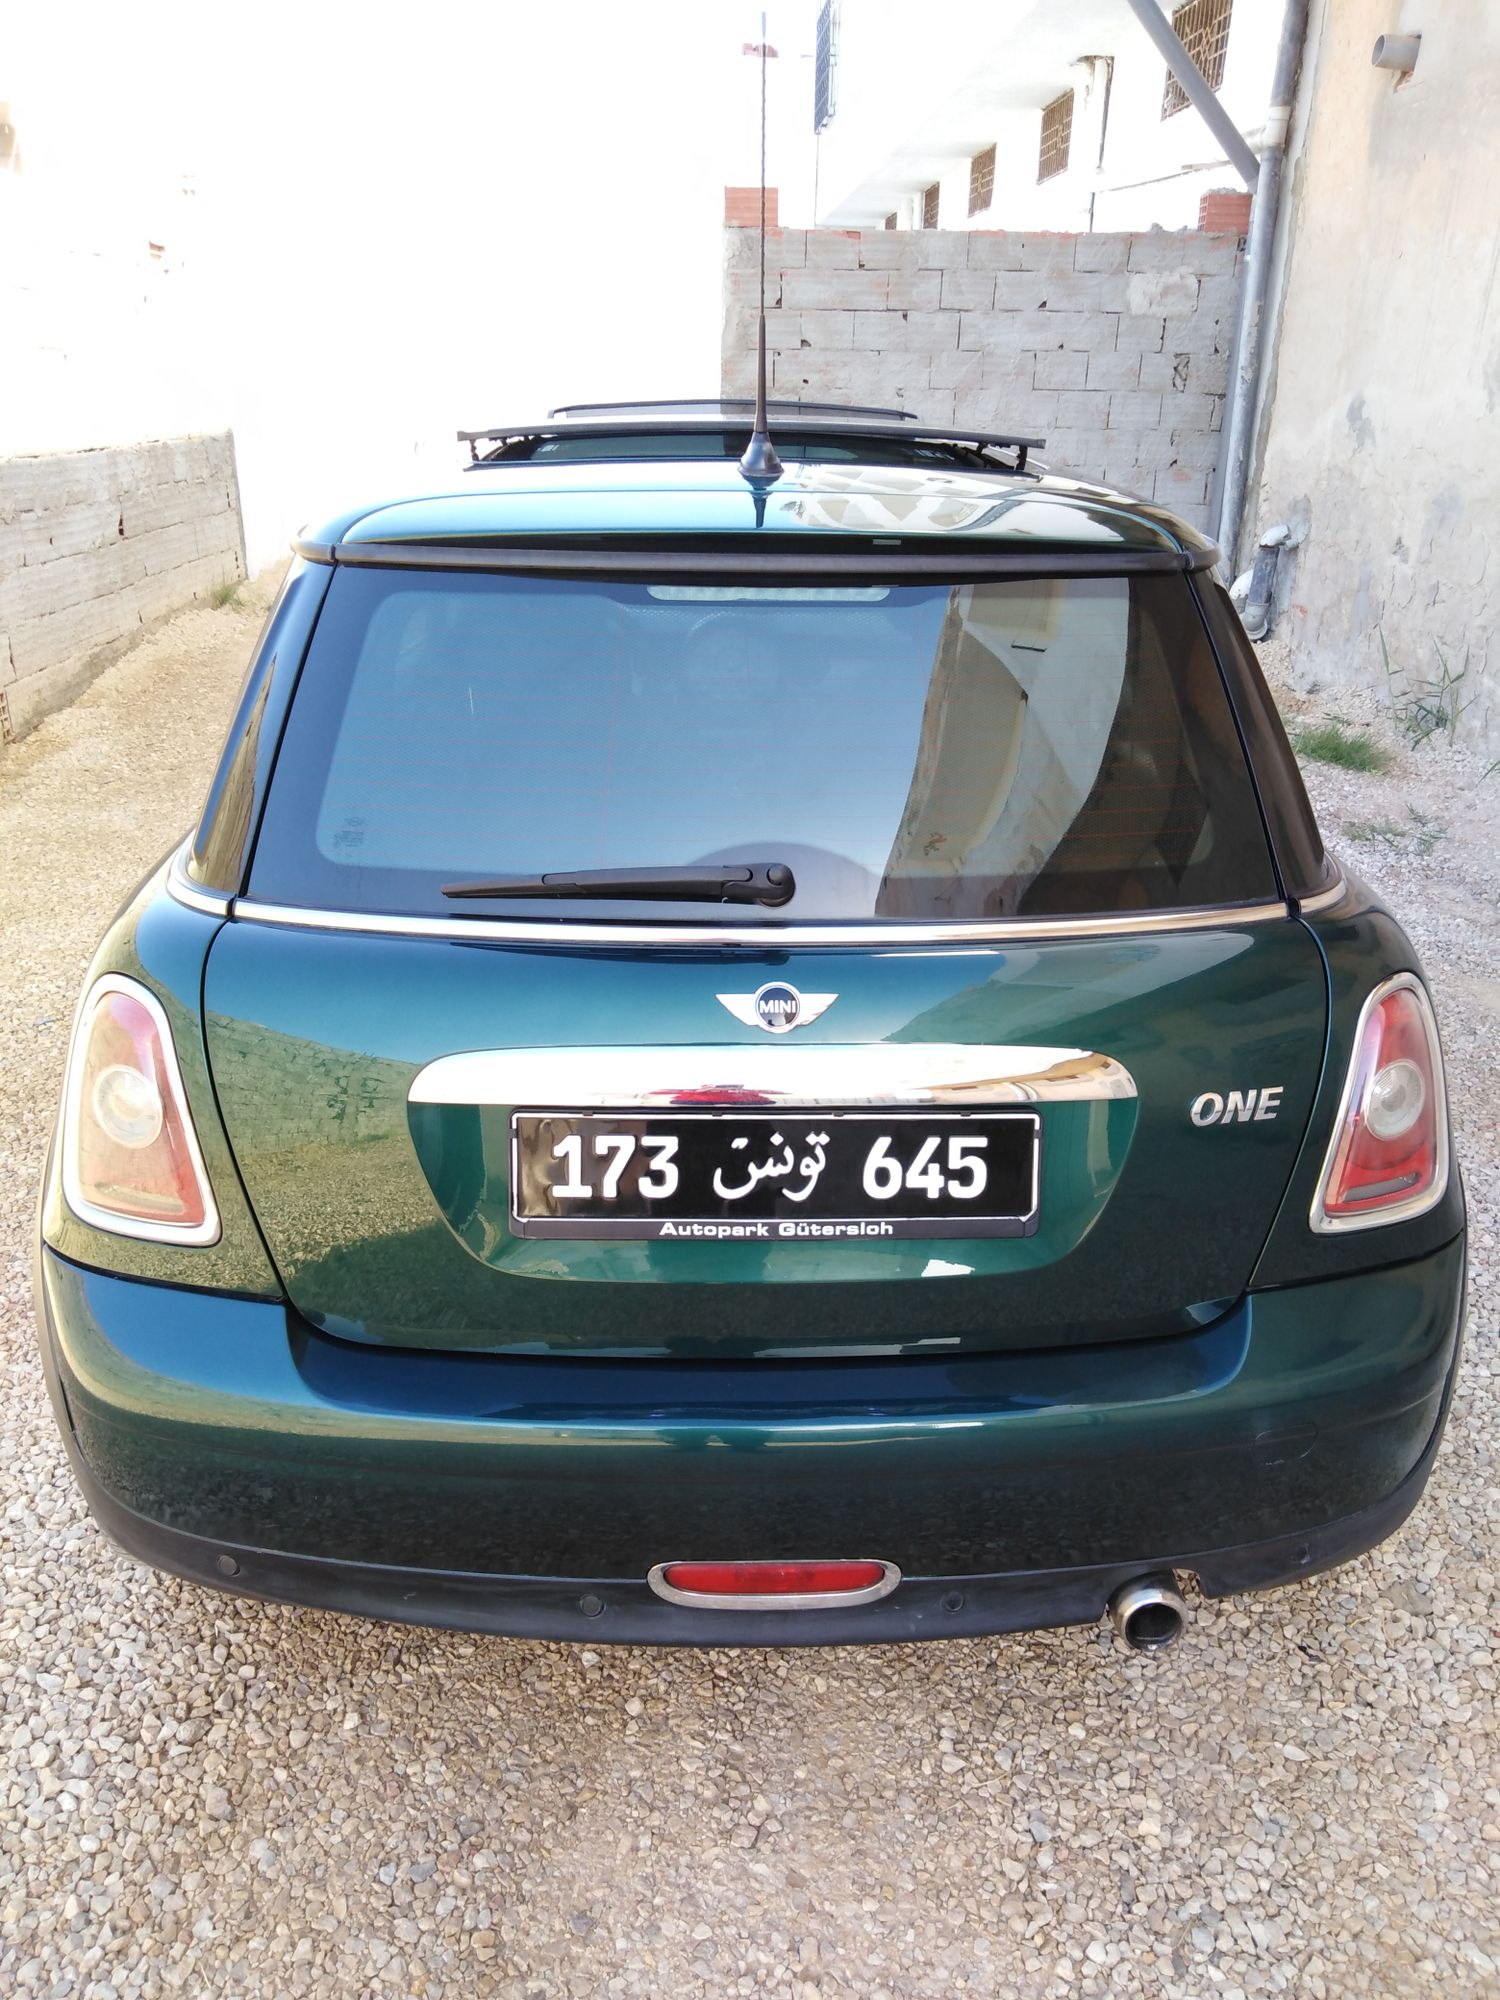LP: (515, 1102, 1036, 1221)
